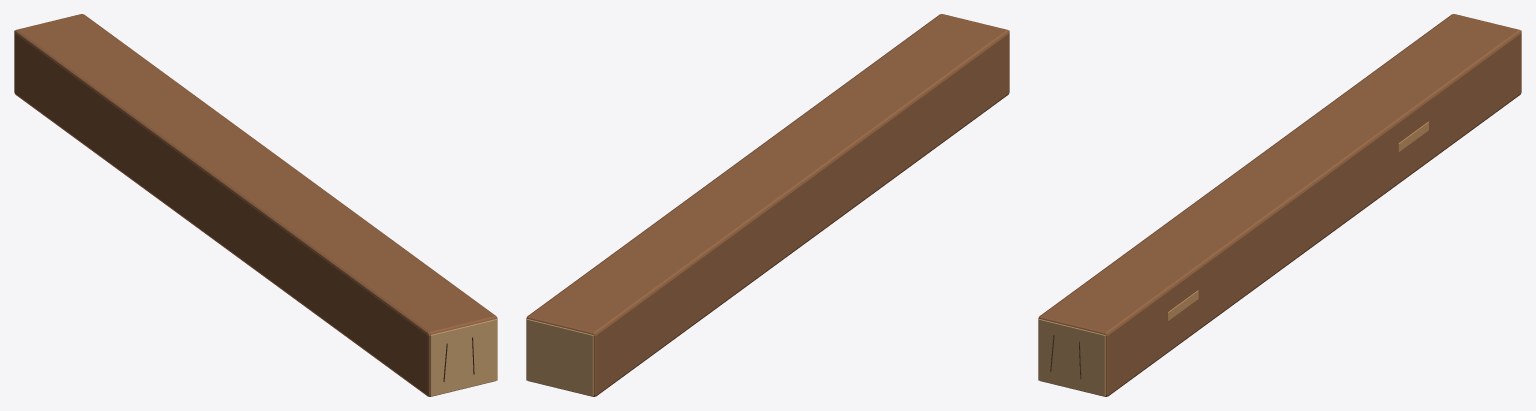
File: cargo_beams.glb
The picture shows the model from 3 angles, left to right: view 1: azimuth 30°, elevation 25°; view 2: azimuth 150°, elevation 25°; view 3: azimuth 330°, elevation 25°; orthographic projection.
Visible parts, largest first — view 1: cargo_beams__structure, cargo_beams__finish; view 2: cargo_beams__structure, cargo_beams__finish; view 3: cargo_beams__structure, cargo_beams__finish.
Boxes of the visible parts, box(x1,y1,x2,y2) form: cargo_beams__structure: box(14, 14, 497, 396); cargo_beams__finish: box(14, 30, 497, 396); cargo_beams__structure: box(526, 14, 1009, 396); cargo_beams__finish: box(526, 30, 1009, 396); cargo_beams__structure: box(1038, 14, 1521, 396); cargo_beams__finish: box(1038, 30, 1521, 396).
Bounding box in the file's own units: 0.217 × 0.19 × 2.21.
